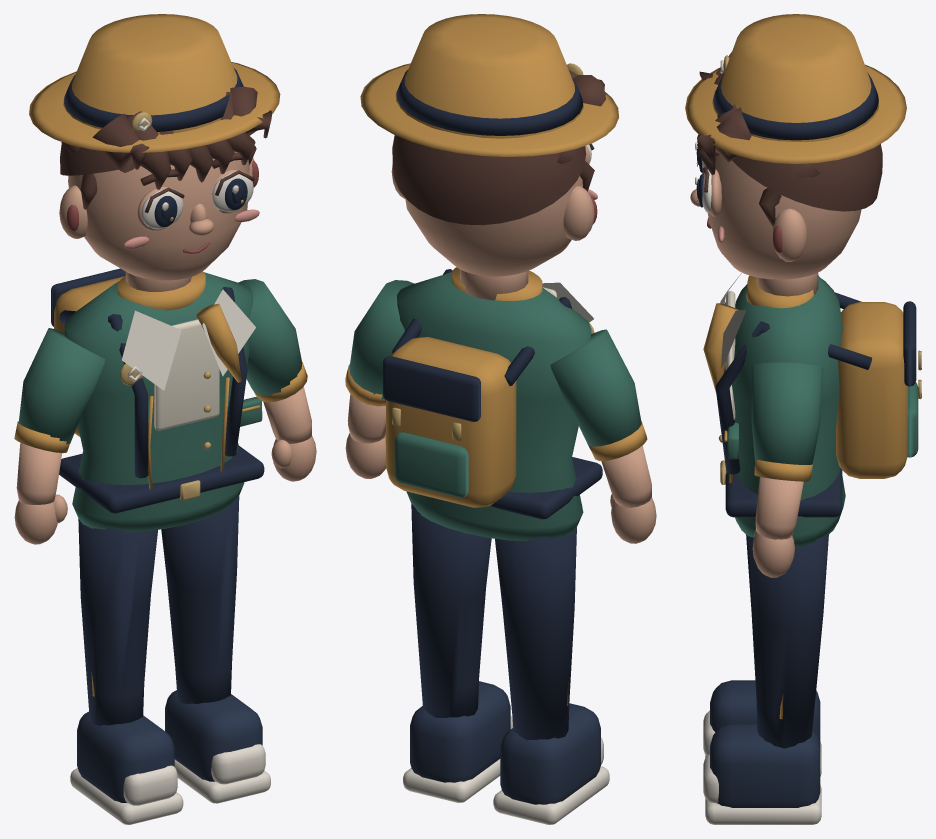
File: xingyin-characters-v1__blocky_character_a.glb
3 renders of one model, left to right at view 1: azimuth 30°, elevation 25°; view 2: azimuth 150°, elevation 25°; view 3: azimuth 270°, elevation 25°, orthographic. The views are drawn at different scales.
Parts seen in each view (by area): view 1: figure; view 2: figure; view 3: figure.
Part boxes in pixels (bbox=[...]): figure: bbox=[14, 14, 316, 824]; figure: bbox=[345, 14, 656, 824]; figure: bbox=[685, 14, 921, 824].
Size of the model in its own units: 1.05 by 2.5 by 0.7126.
